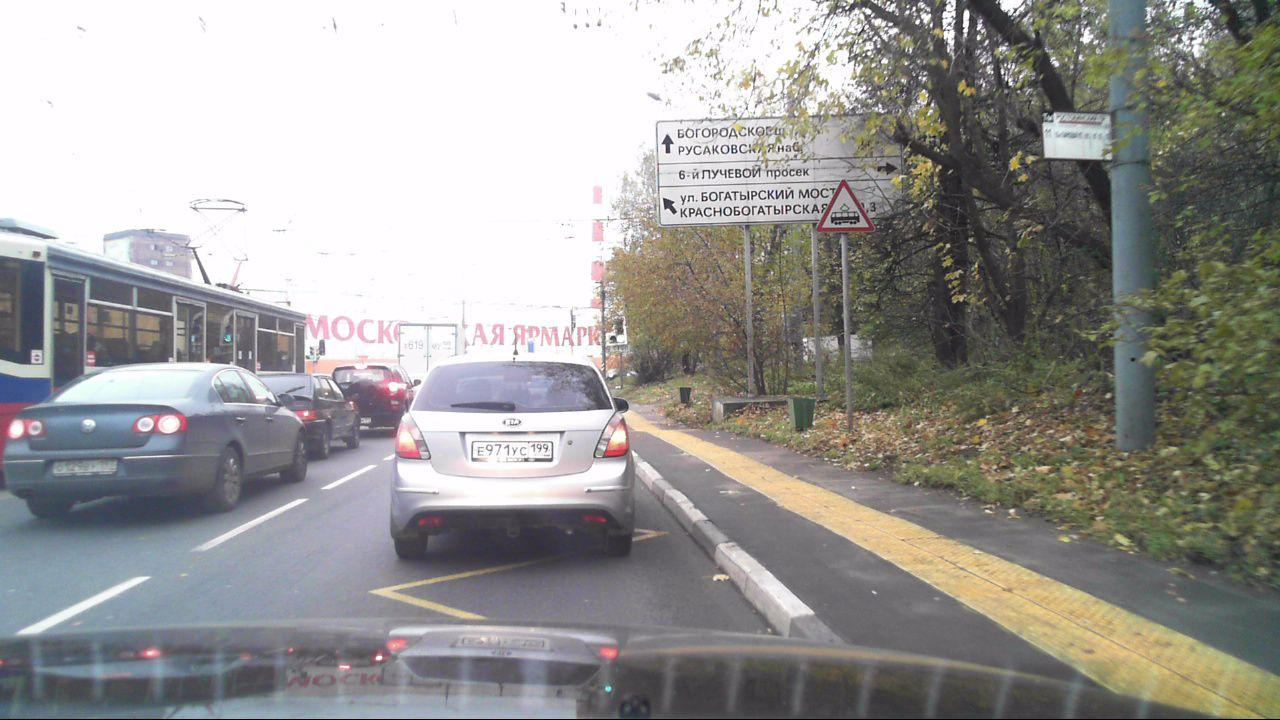1_5: (816, 180, 871, 232)
